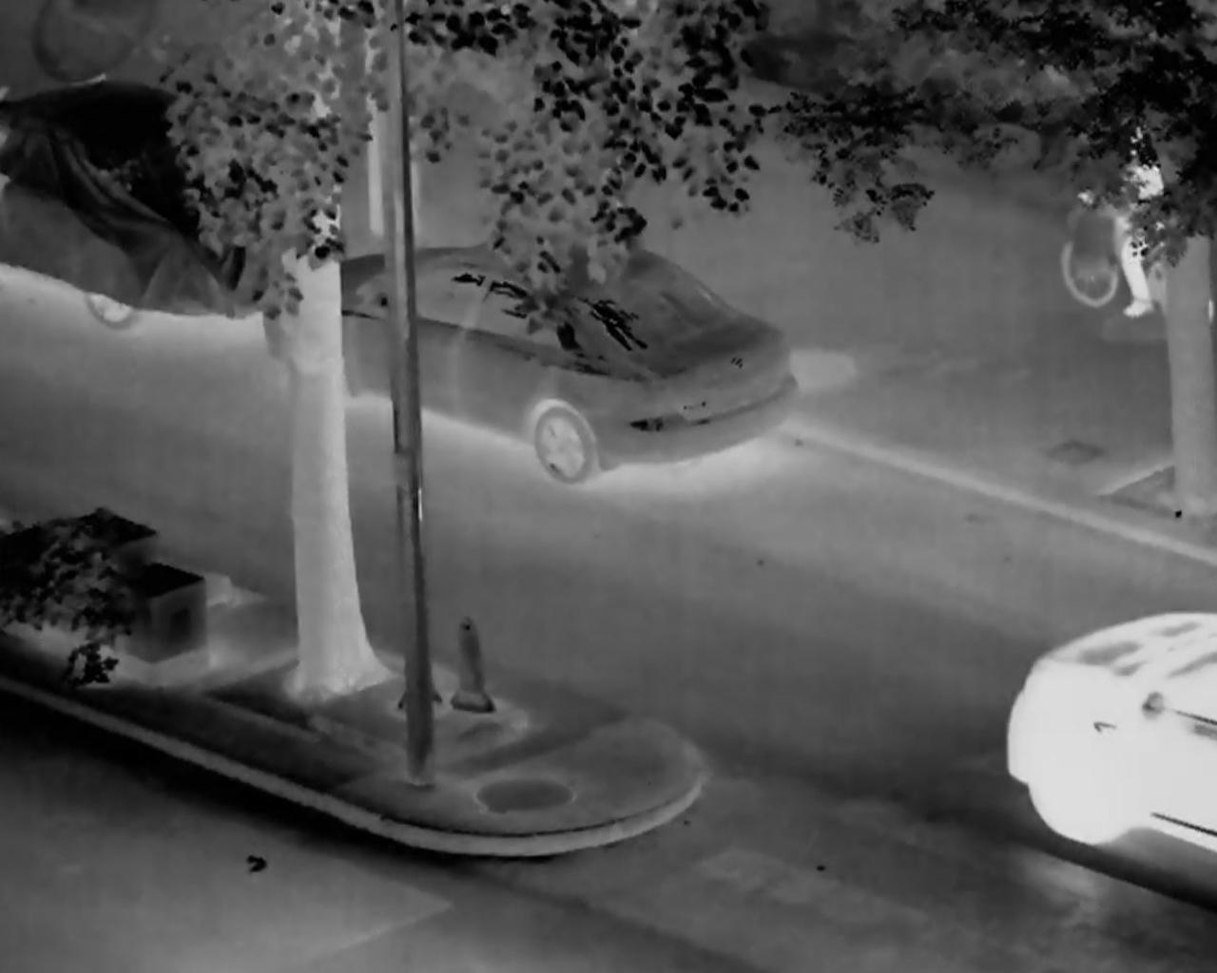person: (1087, 101, 1185, 316)
